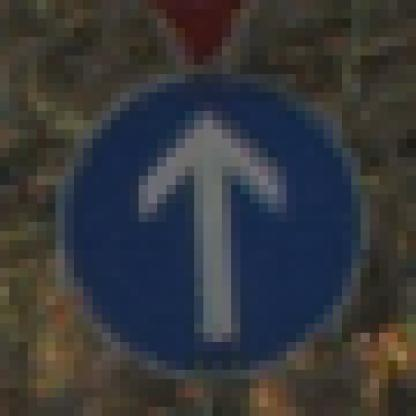AheadOnly: (47, 47, 371, 371)
